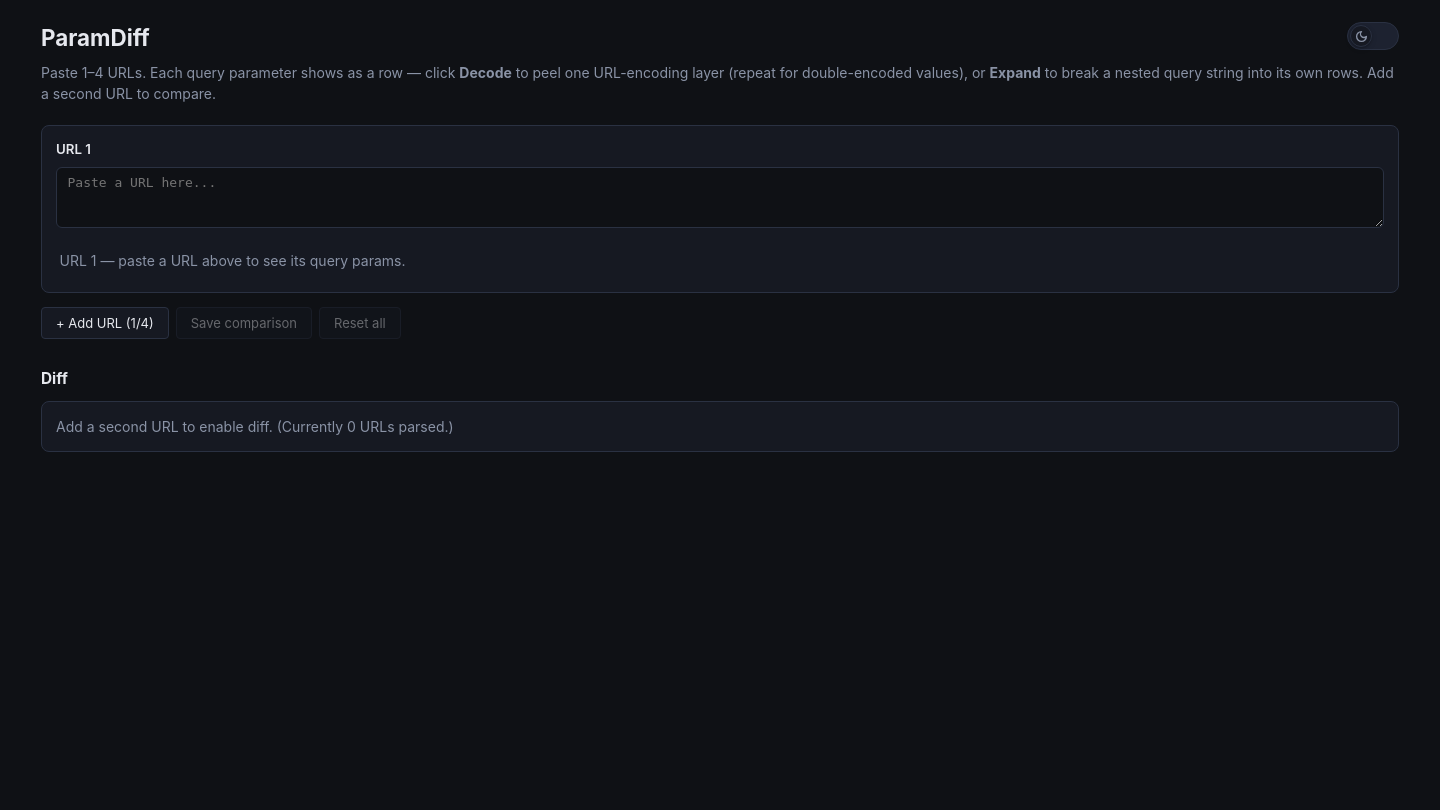
Test: App — end-to-end interaction › scopes mutations to the slot they were issued in
Click the button "+ Add URL (1/4)" at x=105, y=323, box [41,307,169,339]
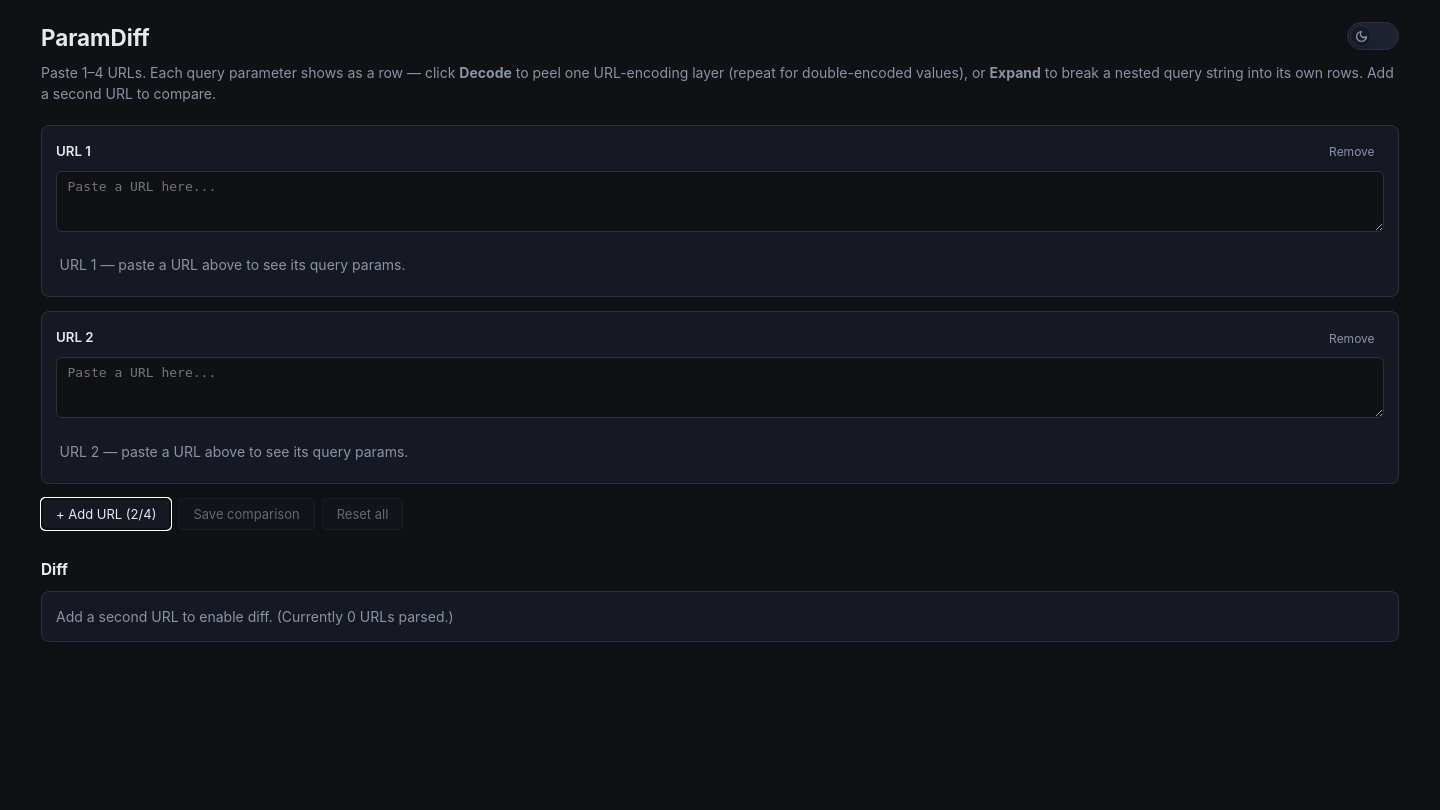
Type "https://x.com/?q=a%20b" into the text box labelled "URL 1" at x=720, y=201, box [56,171,1384,232]
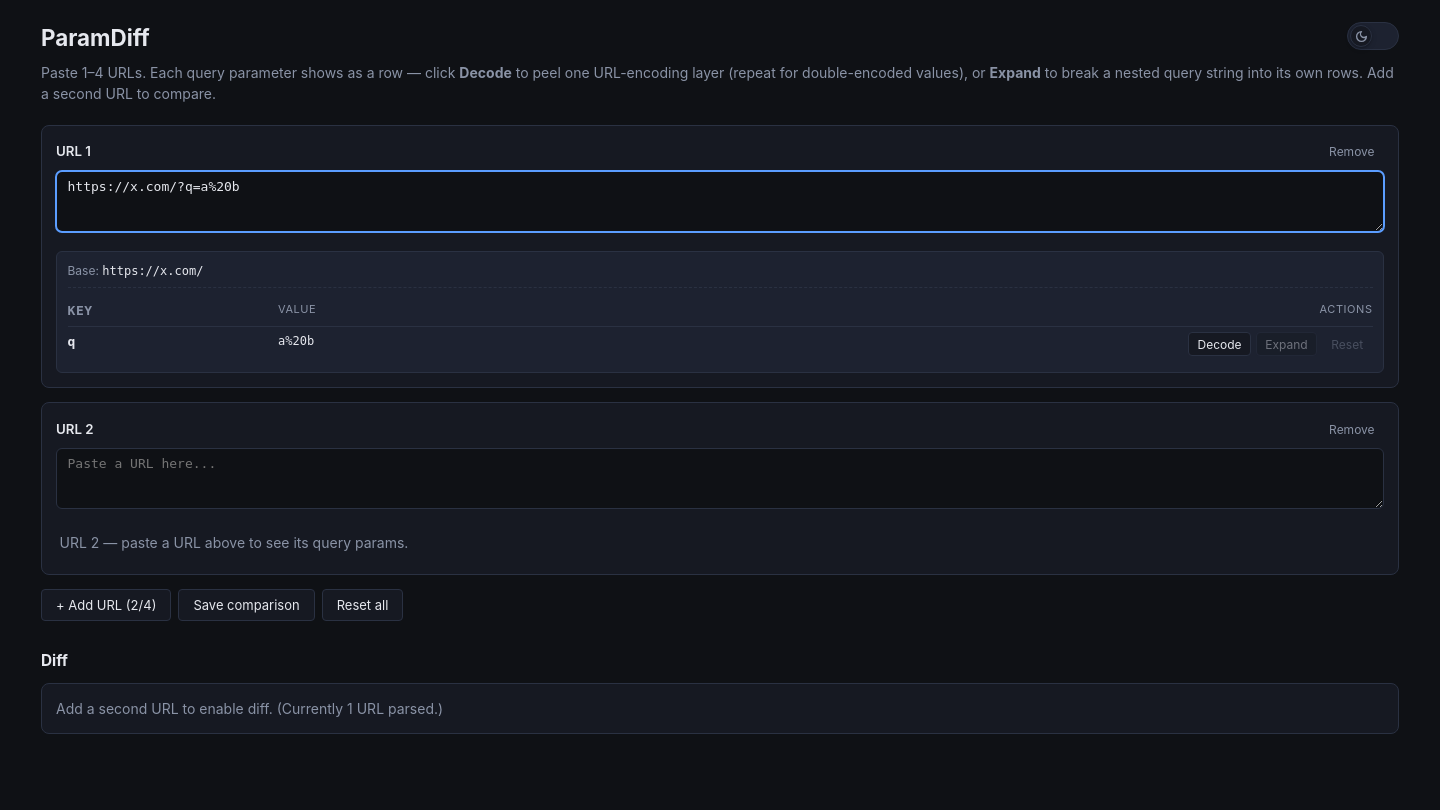
Type "https://y.com/?q=a%20b" into the text box labelled "URL 2" at x=720, y=479, box [56,448,1384,510]
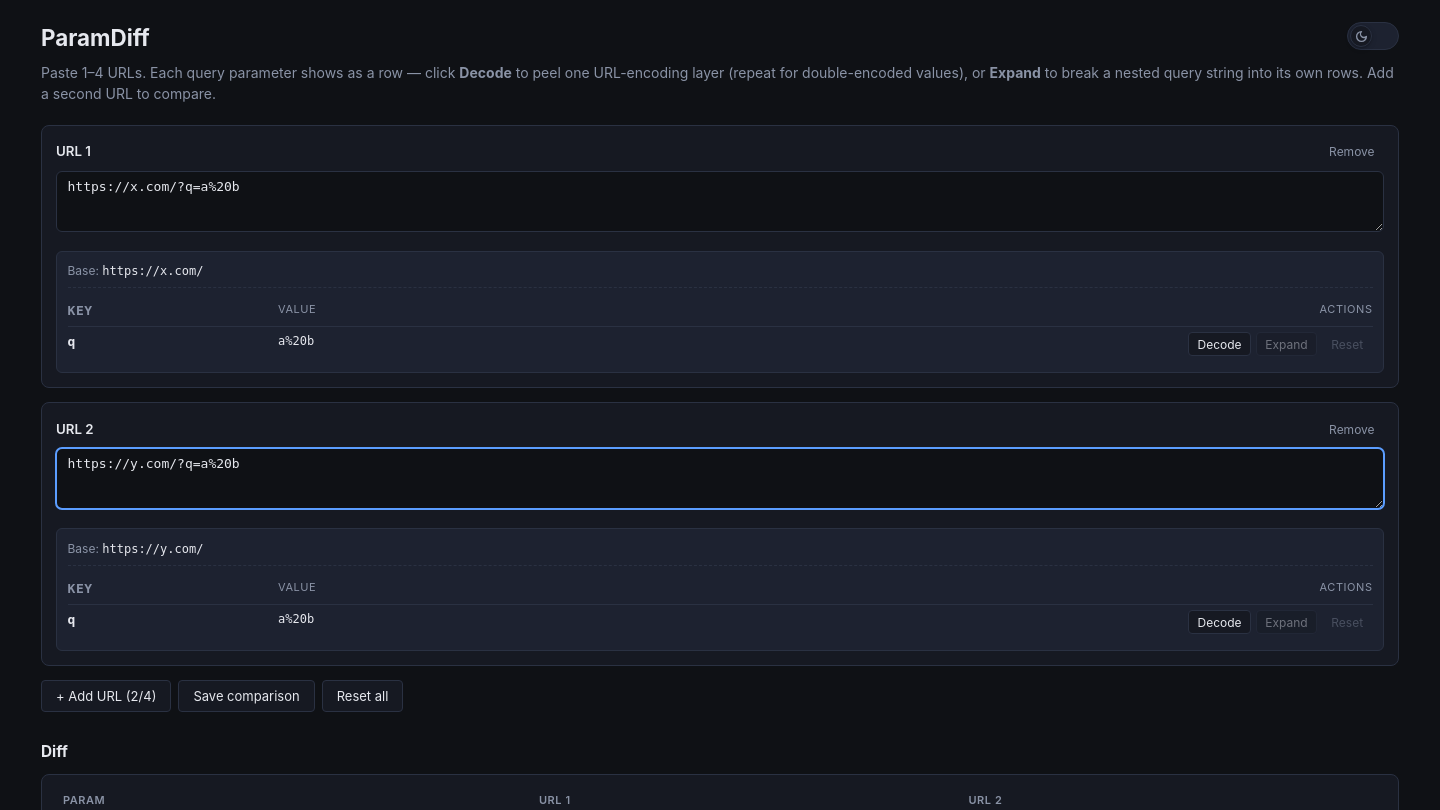
Click the 1st button "Decode" at x=1220, y=344, box [1188,332,1251,356]
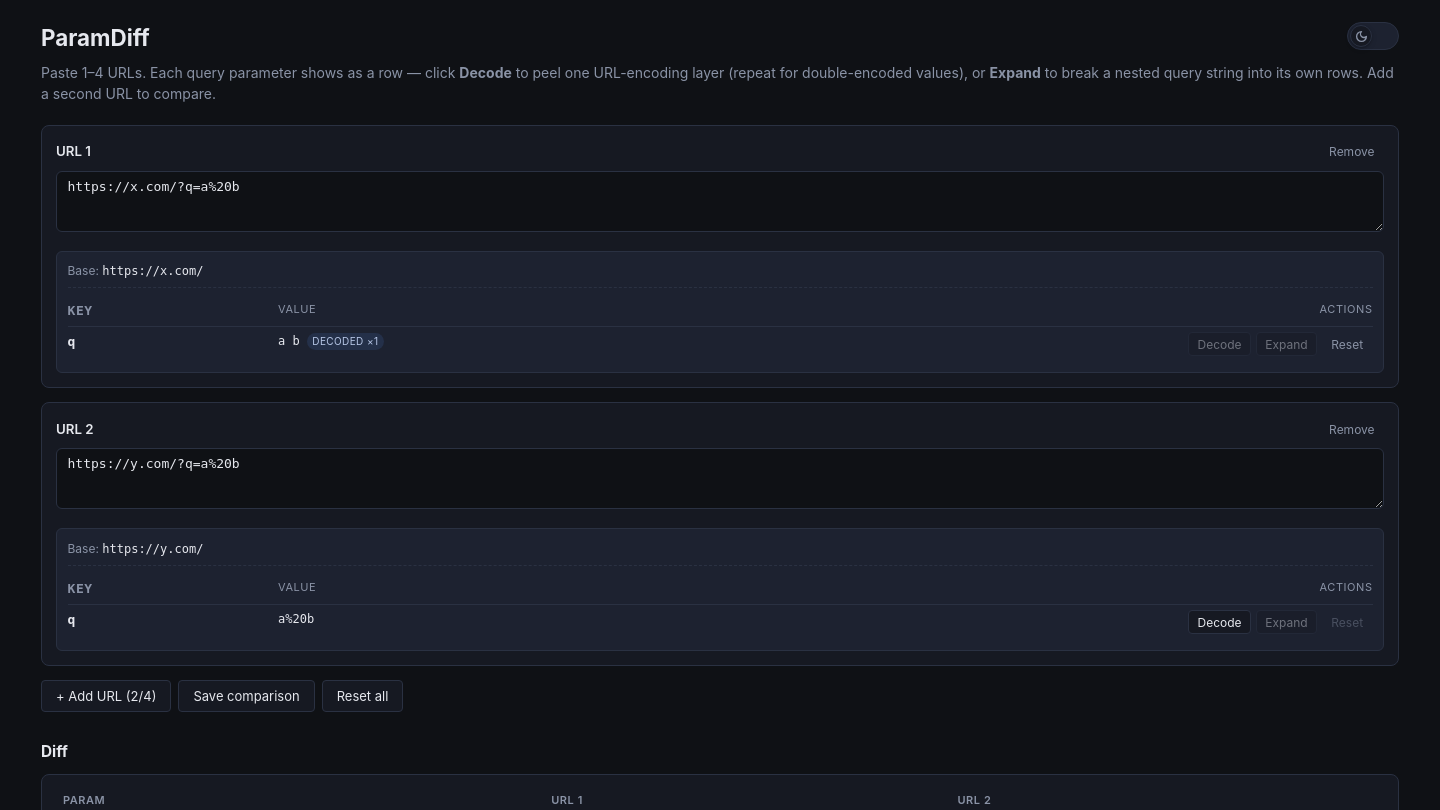
Expected: the 2nd button "Decode" is enabled, [1188,610,1251,634]
Expected: the text "decoded ×1" is shown, [307,332,384,350]
Expected: the button "Decode" in the row of "decoded ×" is disabled, [1188,332,1251,356]
